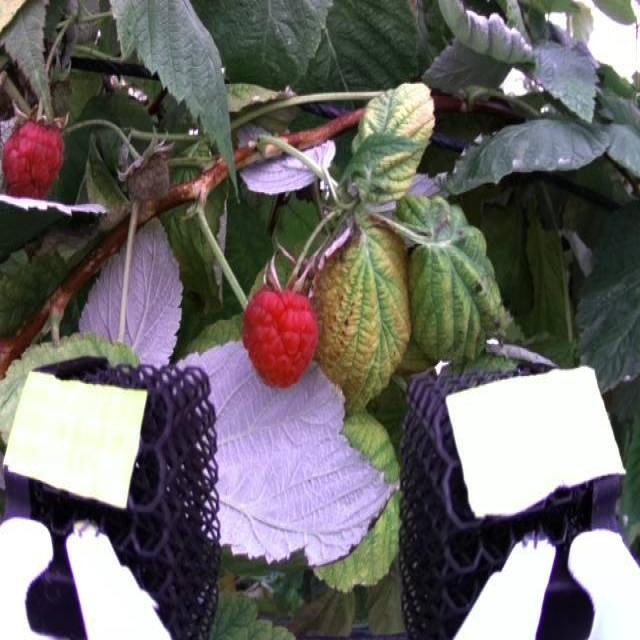Riped berries: (246, 277, 322, 387), (1, 107, 64, 201)
